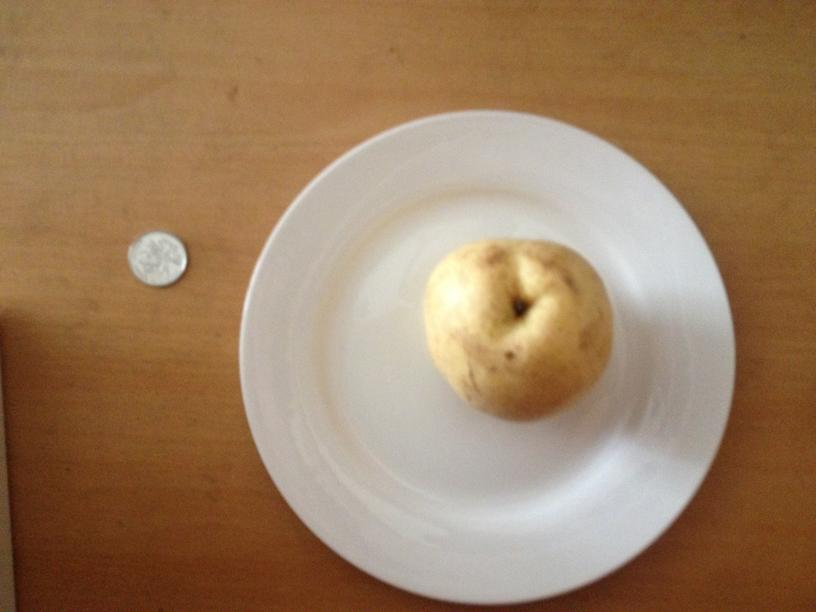coin: (122, 231, 185, 284)
pear: (428, 237, 610, 423)
